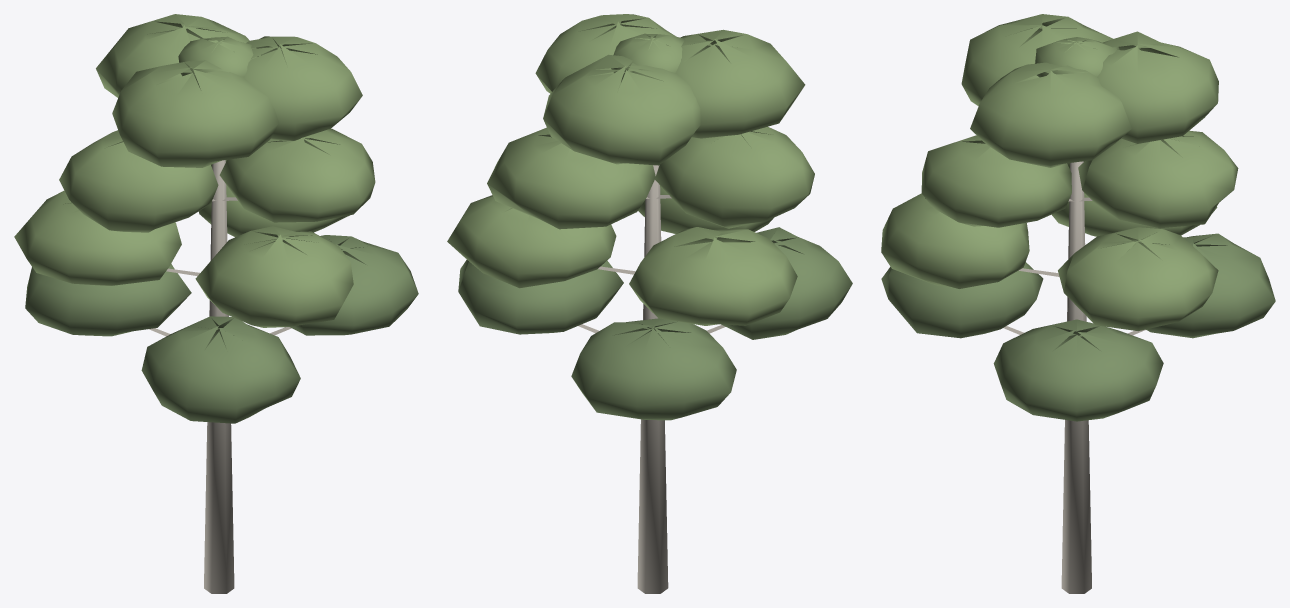
File: kapok-mid.glb
The picture shows the model from 3 angles, left to right: view 1: azimuth 30°, elevation 25°; view 2: azimuth 150°, elevation 25°; view 3: azimuth 270°, elevation 25°; orthographic projection.
Parts seen in each view (by area): view 1: kapok-mid_canopy_kapok, kapok-mid_canopy_kapok_shade, kapok-mid_canopy_bark_pale; view 2: kapok-mid_canopy_kapok, kapok-mid_canopy_kapok_shade, kapok-mid_canopy_bark_pale; view 3: kapok-mid_canopy_kapok, kapok-mid_canopy_kapok_shade, kapok-mid_canopy_bark_pale.
Boxes of the visible parts, x1,y1,x2,y2 form: kapok-mid_canopy_kapok: (14, 14, 375, 327); kapok-mid_canopy_kapok_shade: (25, 235, 418, 423); kapok-mid_canopy_bark_pale: (149, 160, 291, 593); kapok-mid_canopy_kapok: (447, 14, 814, 325); kapok-mid_canopy_kapok_shade: (458, 227, 852, 420); kapok-mid_canopy_bark_pale: (578, 165, 725, 593); kapok-mid_canopy_kapok: (881, 14, 1238, 331); kapok-mid_canopy_kapok_shade: (881, 233, 1275, 421); kapok-mid_canopy_bark_pale: (1003, 161, 1145, 593).
Size of the model in its own units: 16.65 by 24.48 by 16.
